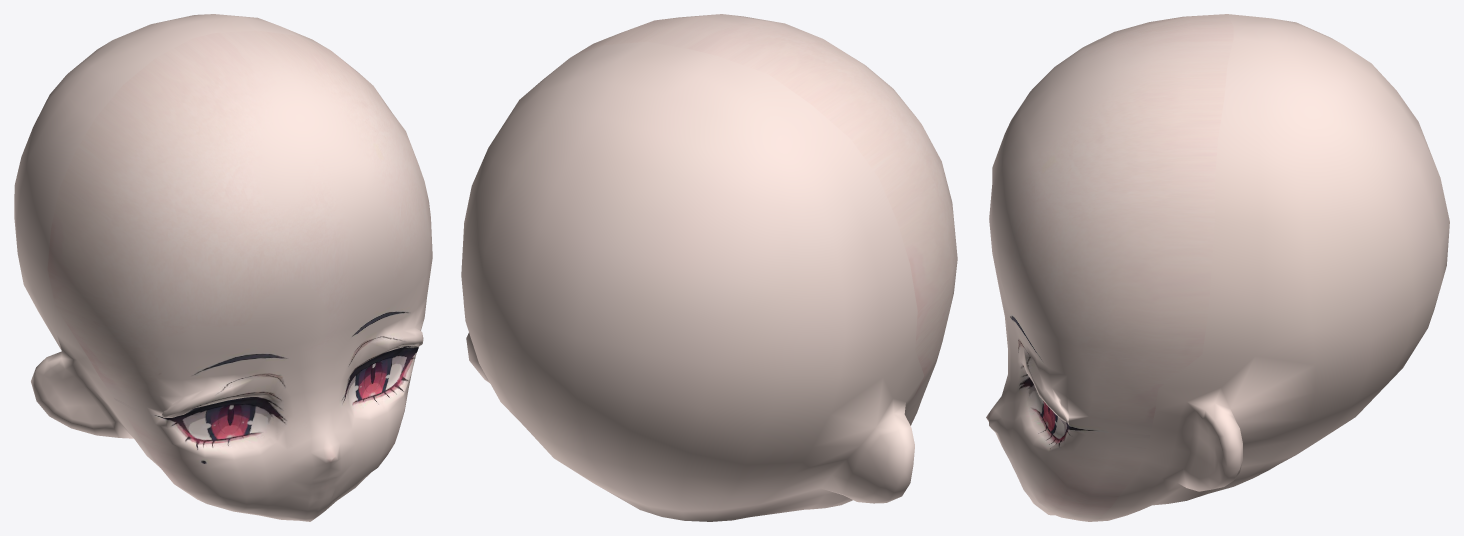
File: mesh_rep_0_ori_repair_quad002.glb
3 views of the same model, side by side, from view 1: azimuth 30°, elevation 25°; view 2: azimuth 150°, elevation 25°; view 3: azimuth 270°, elevation 25° (orthographic). The views are drawn at different scales.
Visible parts, largest first — view 1: mesh_rep_0_ori_repair_quad002; view 2: mesh_rep_0_ori_repair_quad002; view 3: mesh_rep_0_ori_repair_quad002.
Boxes of the visible parts, x1=… form: mesh_rep_0_ori_repair_quad002: x1=14, y1=14, x2=432, y2=521; mesh_rep_0_ori_repair_quad002: x1=461, y1=14, x2=957, y2=521; mesh_rep_0_ori_repair_quad002: x1=986, y1=14, x2=1449, y2=521.
Size of the model in its own units: 0.1355 by 0.1493 by 0.1337.
1 material, 1 textured.
